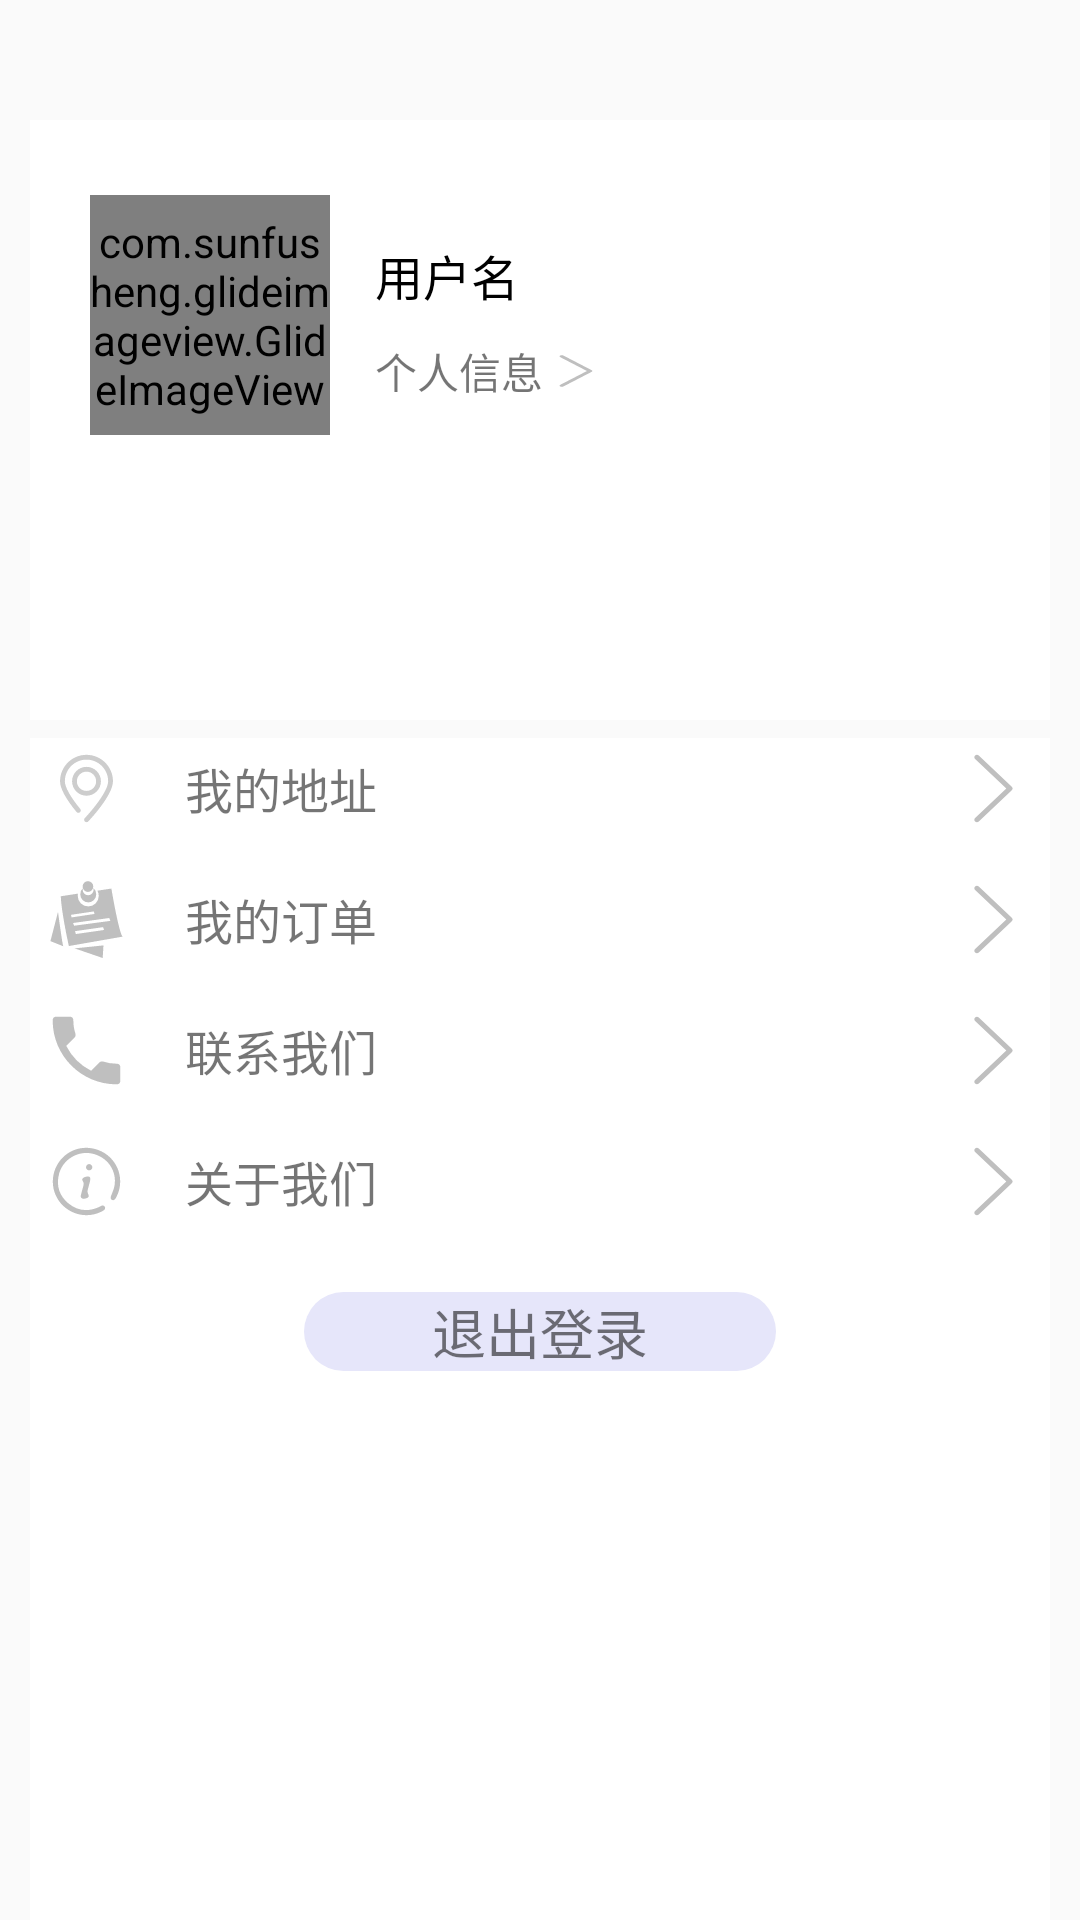

Locate icon controls on the screen. Image size 1080x1920, boxes as (x1, y1, x2, y2).
mine about: (53, 1148, 120, 1215)
mine address: (60, 755, 113, 822)
mine arrow right: (560, 355, 592, 387), (974, 755, 1013, 822), (974, 886, 1013, 953), (974, 1017, 1013, 1084), (974, 1148, 1013, 1215)
mine order: (50, 881, 122, 958)
mine phone: (53, 1017, 120, 1084)
